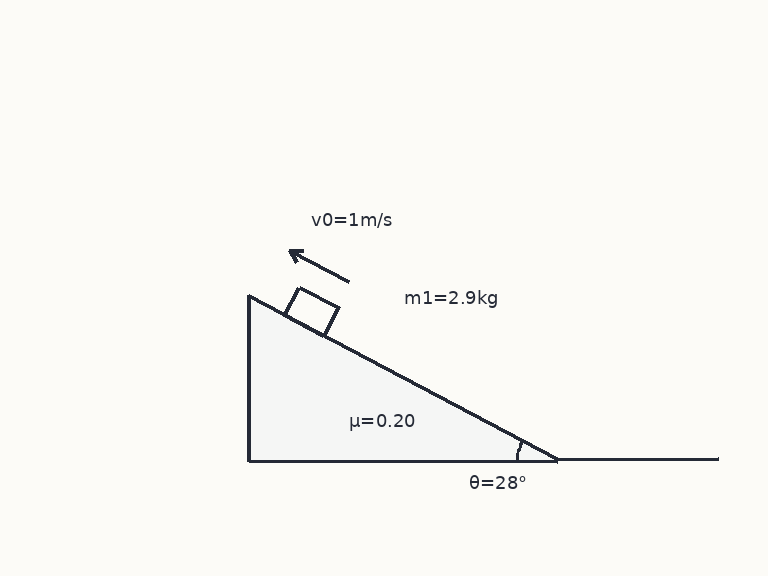block: (282, 284, 340, 338)
ramp: (246, 294, 559, 462)
